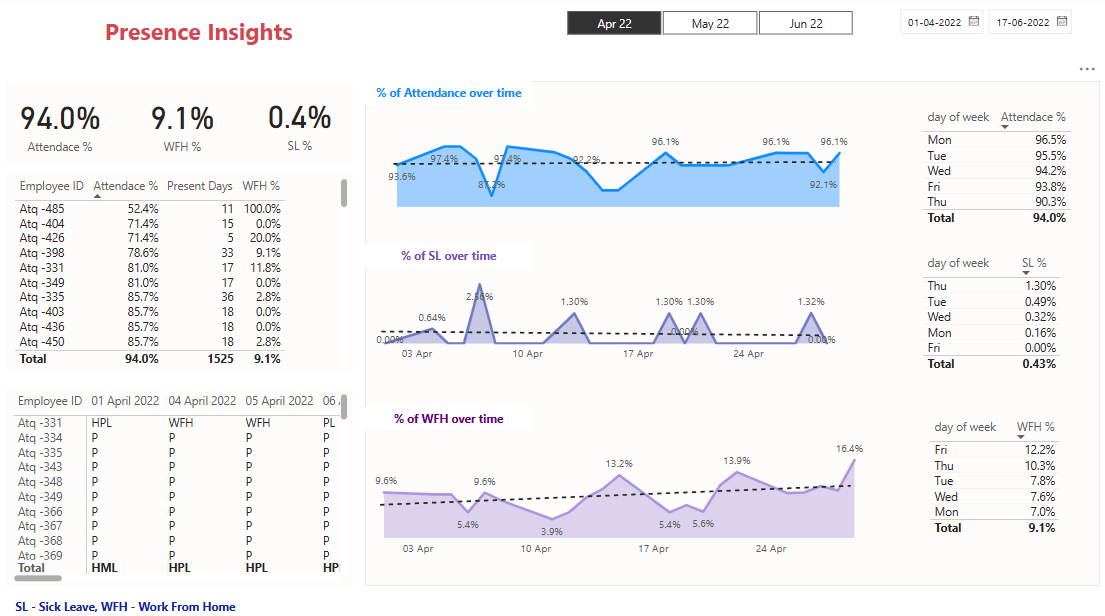

Layout of this report page (visuals, bound fields, positions):
{"tool":"powerbi","page":{"name":"Presence Overview","canvas":[1280,720],"ordinal":0},"visuals":[{"type":"card","fields":{"Values":["Measure Table.Total working days"]},"box":[21.4,93.2,161.3,92],"z":0},{"type":"card","fields":{"Values":["Measure Table.Present days"]},"box":[195.3,93.2,139.8,92],"z":1000},{"type":"card","fields":{"Values":["Measure Table.present %"]},"box":[343.9,93.2,132.3,92],"z":2000},{"type":"slicer","title":"Select Month","fields":{"Values":["Final data.month"]},"box":[757.2,21.4,466.1,163.8],"z":3000},{"type":"card","fields":{"Values":["Measure Table.WFH %"]},"box":[486.3,93.2,115.9,92],"z":4000},{"type":"card","fields":{"Values":["Measure Table.SL %"]},"box":[614.8,93.2,123.5,92],"z":5000},{"type":"tableEx","fields":{"Values":["Final data.Name","Measure Table.present %","Measure Table.WFH %","Measure Table.SL %"]},"box":[20.2,200.3,340.2,267.1],"z":6000},{"type":"textbox","title":"presence insights","box":[117.2,21.4,485,55.4],"z":7000},{"type":"pivotTable","fields":{"Rows":["Final data.Name"],"Values":["Min(Final data.Value)"],"Columns":["Final data.Date"]},"box":[20.2,478.7,340.2,205.4],"z":8000},{"type":"areaChart","fields":{"Category":["Final data.Date.Variation.Date Hierarchy.Year","Final data.Date.Variation.Date Hierarchy.Quarter","Final data.Date.Variation.Date Hierarchy.Month","Final data.Date.Variation.Date Hierarchy.Day"],"Y":["Measure Table.present %"]},"box":[370.4,201.6,655.1,148.7],"z":9000},{"type":"areaChart","fields":{"Category":["Final data.Date.Variation.Date Hierarchy.Year","Final data.Date.Variation.Date Hierarchy.Quarter","Final data.Date.Variation.Date Hierarchy.Month","Final data.Date.Variation.Date Hierarchy.Day"],"Y":["Measure Table.WFH %"]},"box":[370.4,361.6,655.1,157.5],"z":10000},{"type":"areaChart","fields":{"Y":["Measure Table.SL %"],"Category":["Final data.Date.Variation.Date Hierarchy.Year","Final data.Date.Variation.Date Hierarchy.Quarter","Final data.Date.Variation.Date Hierarchy.Month","Final data.Date.Variation.Date Hierarchy.Day"]},"box":[370.4,530.4,655.1,153.7],"z":11000},{"type":"tableEx","fields":{"Values":["Final data.day of week","Measure Table.present %"]},"box":[1035.6,202.8,187.7,147.4],"z":12000},{"type":"tableEx","fields":{"Values":["Final data.day of week","Measure Table.WFH %"]},"box":[1035.6,360.3,187.7,158.7],"z":13000},{"type":"tableEx","fields":{"Values":["Final data.day of week","Measure Table.SL %"]},"box":[1035.6,530.4,187.7,153.7],"z":14000}]}

Visuals, with their boxes in screenshot pixels (x1, y1, x2, y2), scaled from the page's 1280x720 canvas onto the 1105x616 screenshot:
card - Measure Table.Total working days: {"x1": 18, "y1": 80, "x2": 158, "y2": 158}
card - Measure Table.Present days: {"x1": 169, "y1": 80, "x2": 289, "y2": 158}
card - Measure Table.present %: {"x1": 297, "y1": 80, "x2": 411, "y2": 158}
"Select Month" slicer: {"x1": 654, "y1": 18, "x2": 1056, "y2": 158}
card - Measure Table.WFH %: {"x1": 420, "y1": 80, "x2": 520, "y2": 158}
card - Measure Table.SL %: {"x1": 531, "y1": 80, "x2": 637, "y2": 158}
tableEx - Final data.Name x Measure Table.present %: {"x1": 17, "y1": 171, "x2": 311, "y2": 400}
"presence insights" textbox: {"x1": 101, "y1": 18, "x2": 520, "y2": 66}
pivotTable - Final data.Name x Min(Final data.Value): {"x1": 17, "y1": 410, "x2": 311, "y2": 585}
areaChart - Final data.Date.Variation.Date Hierarchy.Year x Final data.Date.Variation.Date Hierarchy.Quarter: {"x1": 320, "y1": 172, "x2": 885, "y2": 300}
areaChart - Final data.Date.Variation.Date Hierarchy.Year x Final data.Date.Variation.Date Hierarchy.Quarter: {"x1": 320, "y1": 309, "x2": 885, "y2": 444}
areaChart - Measure Table.SL % x Final data.Date.Variation.Date Hierarchy.Year: {"x1": 320, "y1": 454, "x2": 885, "y2": 585}
tableEx - Final data.day of week x Measure Table.present %: {"x1": 894, "y1": 174, "x2": 1056, "y2": 300}
tableEx - Final data.day of week x Measure Table.WFH %: {"x1": 894, "y1": 308, "x2": 1056, "y2": 444}
tableEx - Final data.day of week x Measure Table.SL %: {"x1": 894, "y1": 454, "x2": 1056, "y2": 585}
